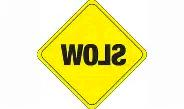Slow: (40, 2, 145, 104)
